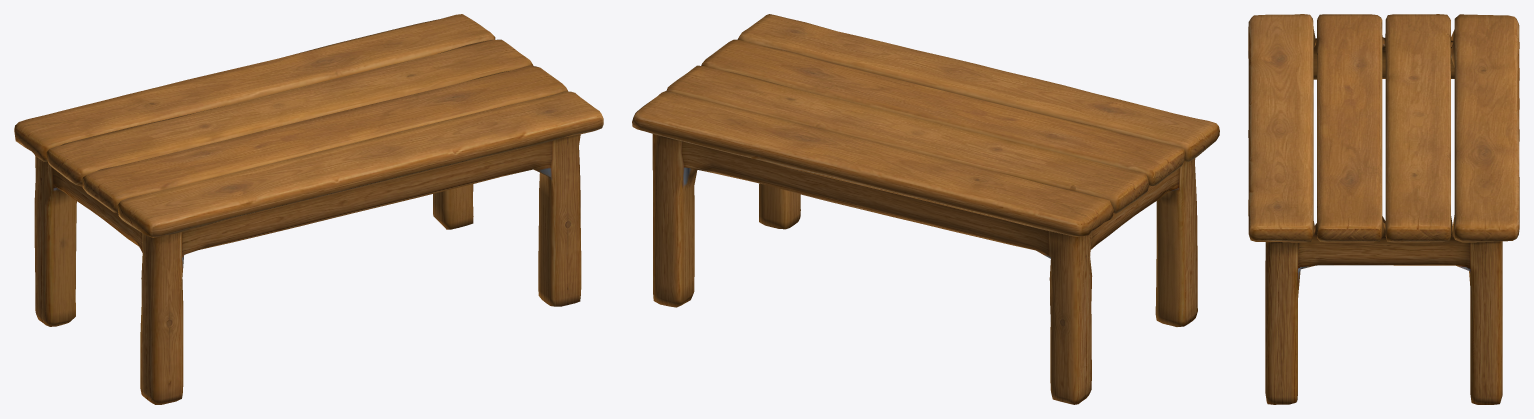
File: home_table.glb
3 renders of one model, left to right at view 1: azimuth 30°, elevation 25°; view 2: azimuth 150°, elevation 25°; view 3: azimuth 270°, elevation 25°, orthographic. The views are drawn at different scales.
Parts seen in each view (by area): view 1: tripo_node_59a92269; view 2: tripo_node_59a92269; view 3: tripo_node_59a92269.
Part boxes in pixels (box(x1,y1,x2,y2)): tripo_node_59a92269: box(14, 14, 603, 404); tripo_node_59a92269: box(632, 14, 1219, 404); tripo_node_59a92269: box(1248, 14, 1519, 404).
Bounding box in the file's own units: 97.86 × 39.97 × 52.3.
Materials: 1 (1 with a texture image).
